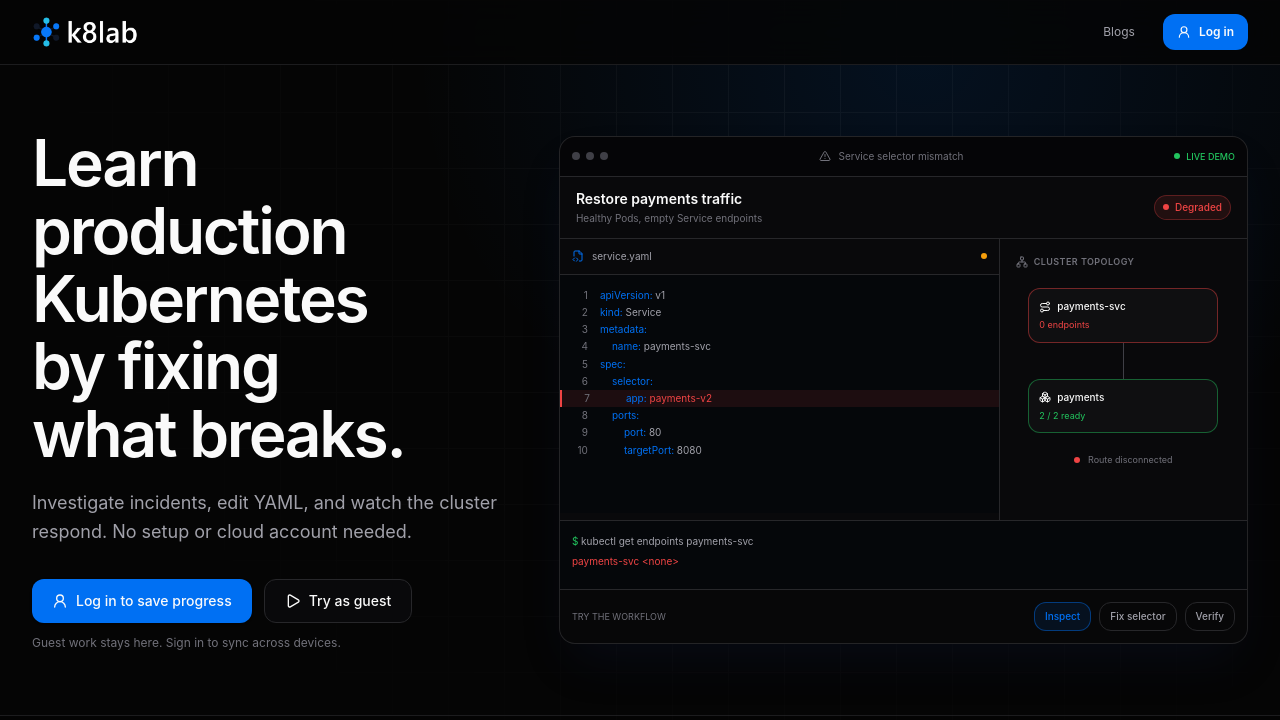
Test case: landing entry choice › lets visitors control the incident demo
The width and height of the screenshot is (1280, 720).
Click the button "Fix selector".
click(1138, 616)  # box [1099,602,1177,631]
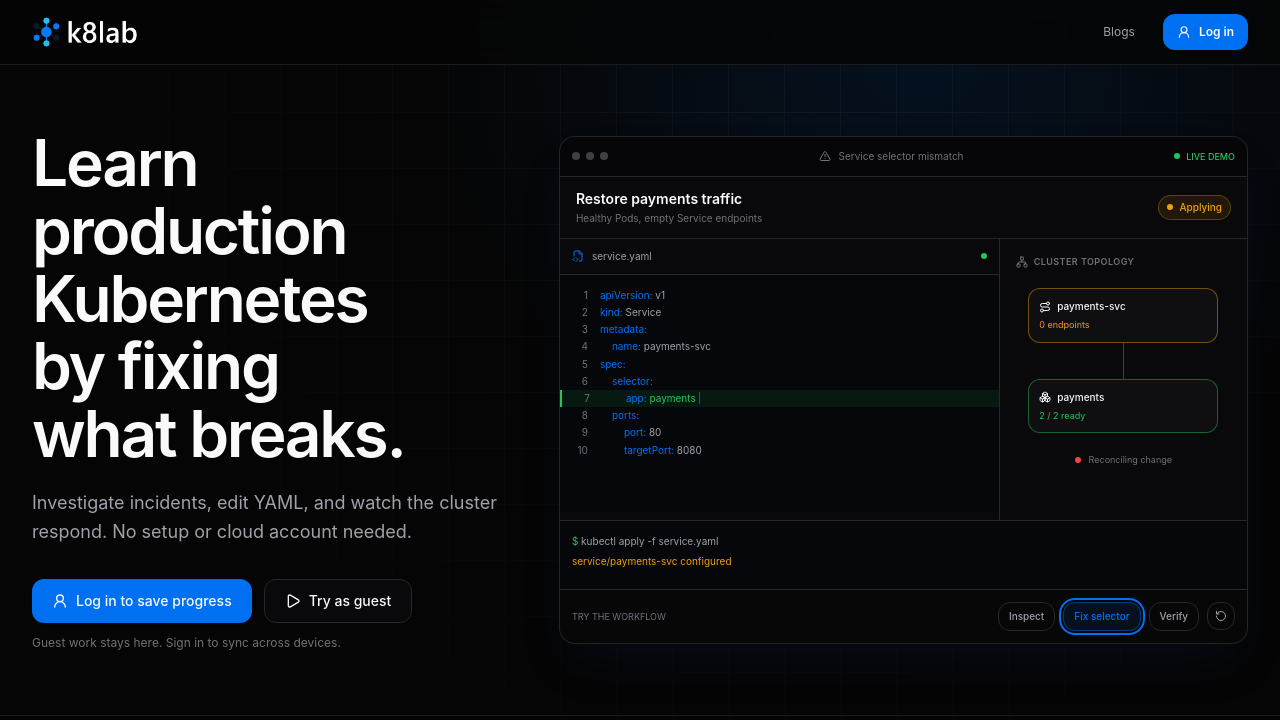
Expected: the text "service/payments-svc configured" is shown, [572,555,732,567]
Click the button "Verify".
click(1174, 616)  # box [1149,602,1199,631]
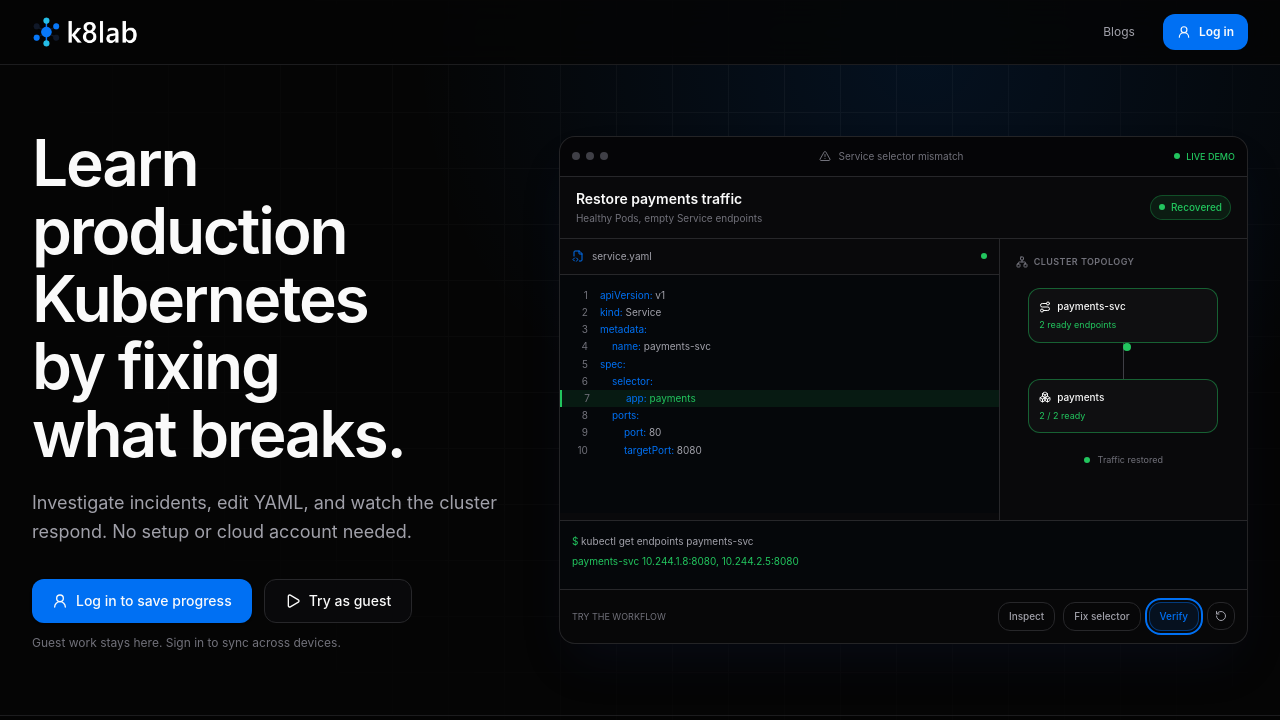
Expected: the text "Traffic restored" is shown, [1084,454,1163,465]
